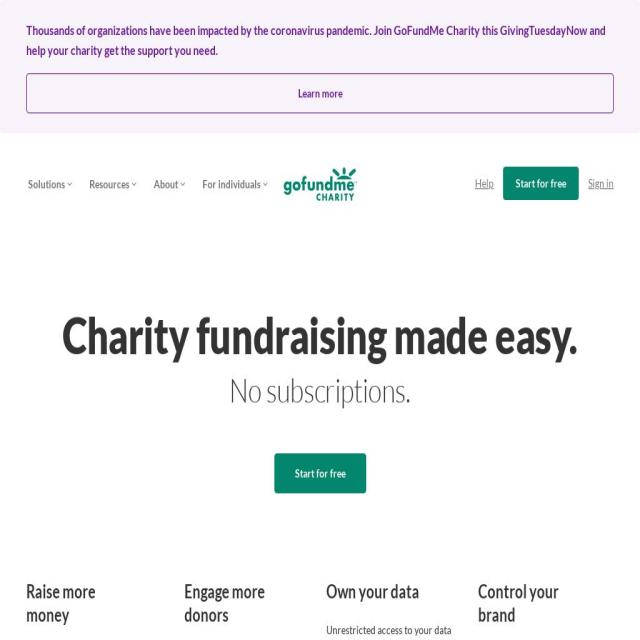button: (26, 74, 614, 114), (283, 154, 357, 213), (274, 454, 366, 494), (503, 166, 579, 200), (588, 172, 614, 194)
heading: (26, 303, 614, 367), (478, 580, 595, 627), (26, 580, 141, 627), (184, 580, 282, 627), (326, 580, 435, 603)
image: (283, 168, 357, 202)
link: (475, 175, 494, 190)
text: (26, 20, 614, 60), (26, 373, 614, 407), (326, 620, 454, 640), (202, 176, 262, 191), (90, 176, 132, 191), (28, 176, 67, 191), (154, 176, 180, 191)
